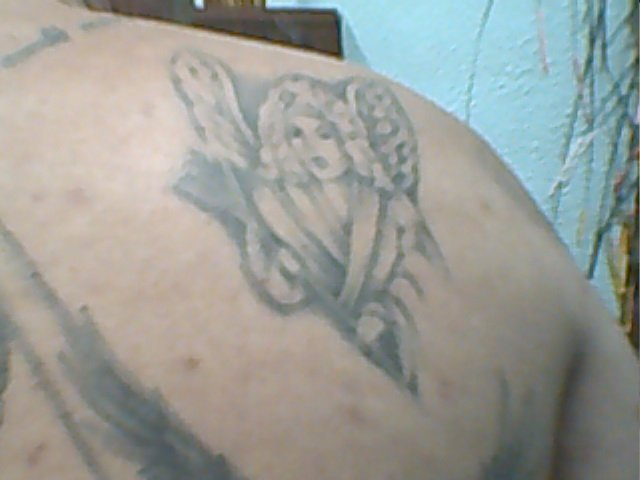tatu1_angel: (143, 37, 457, 419)
